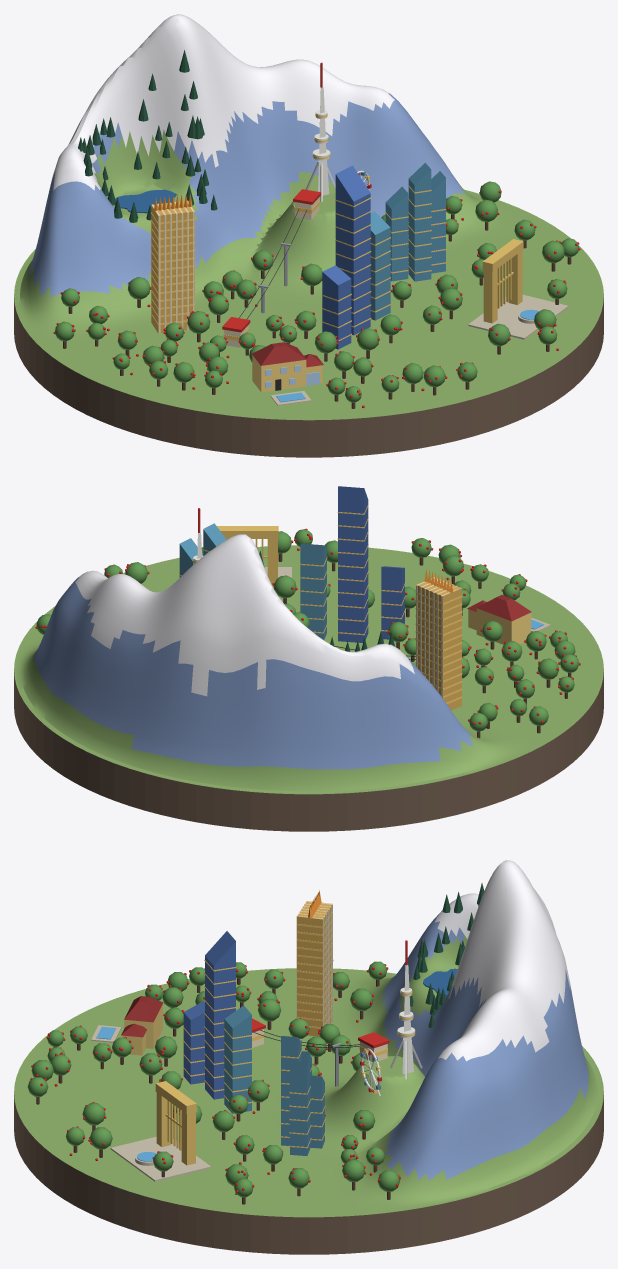
File: almaty.glb
The picture shows the model from 3 angles, top to bottom: view 1: azimuth 30°, elevation 25°; view 2: azimuth 150°, elevation 25°; view 3: azimuth 270°, elevation 25°; orthographic projection.
Parts seen in each view (by area): view 1: DECO-land, DECO-base, DECO-apple-trees, af-tower-0, hk-tower, DECO-spruces, nt-tower-0, af-tower-2, af-tower-1, nt-tower-2, pg-plaza, DECO-apples (+7 smaller); view 2: DECO-land, DECO-base, DECO-apple-trees, af-tower-0, hk-tower, af-tower-1, af-tower-2, home-body, DECO-apples, home-roof, pg-lintel, nt-tower-1 (+2 smaller); view 3: DECO-land, DECO-base, DECO-apple-trees, af-tower-0, hk-tower, af-tower-1, nt-tower-1, pg-plaza, DECO-spruces, af-tower-2, DECO-apples, nt-tower-0 (+6 smaller).
Part boxes in pixels (x1,y1,x2,y2): DECO-land: (15, 14, 602, 419); DECO-base: (14, 189, 603, 457); DECO-apple-trees: (55, 181, 578, 408); af-tower-0: (335, 165, 370, 335); hk-tower: (151, 201, 194, 333); DECO-spruces: (78, 50, 217, 222); nt-tower-0: (408, 162, 431, 281); af-tower-2: (322, 265, 351, 349); af-tower-1: (370, 211, 390, 320); nt-tower-2: (385, 186, 408, 281); pg-plaza: (468, 294, 568, 339); DECO-apples: (53, 185, 580, 408); DECO-land: (15, 534, 602, 793); DECO-base: (14, 545, 603, 831); DECO-apple-trees: (36, 529, 578, 738); af-tower-0: (338, 486, 368, 642); hk-tower: (416, 577, 461, 710); af-tower-1: (300, 543, 326, 639); af-tower-2: (381, 566, 404, 639); home-body: (476, 608, 531, 644); DECO-apples: (35, 528, 580, 724); home-roof: (476, 595, 531, 621); pg-lintel: (217, 526, 278, 538); nt-tower-1: (179, 538, 203, 577); DECO-land: (17, 860, 602, 1216); DECO-base: (14, 968, 603, 1254); DECO-apple-trees: (27, 960, 399, 1204); af-tower-0: (205, 931, 235, 1099); hk-tower: (297, 901, 331, 1036); af-tower-1: (224, 1005, 251, 1113); nt-tower-1: (290, 1061, 310, 1155); pg-plaza: (110, 1136, 210, 1181); DECO-spruces: (409, 883, 484, 1027); af-tower-2: (183, 1001, 204, 1084); DECO-apples: (30, 964, 400, 1192); nt-tower-0: (281, 1036, 301, 1145).
Bounding box in the file's own units: 2 × 0.9458 × 2.
